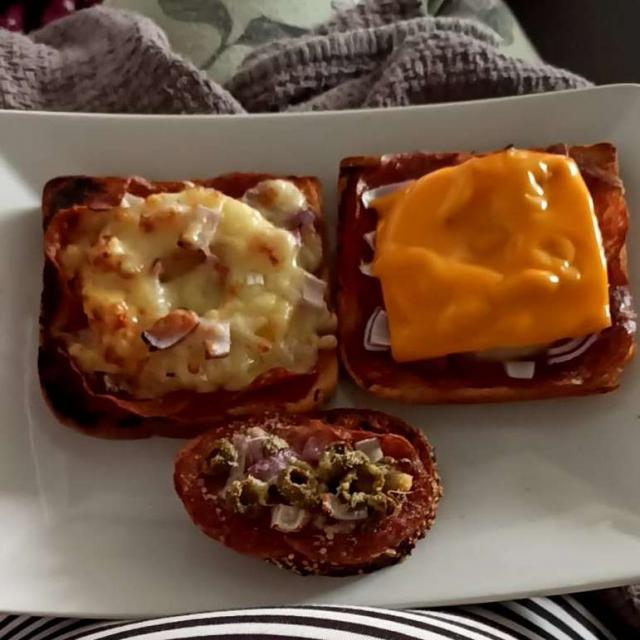bread: (164, 405, 437, 568)
